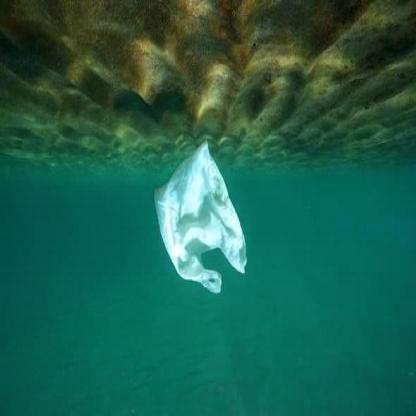pbag: (150, 139, 250, 297)
